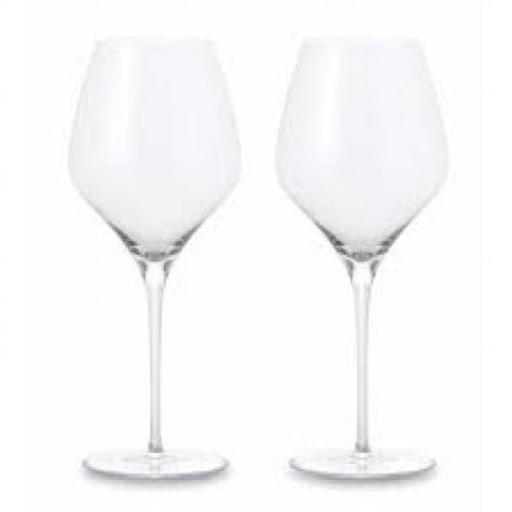glass: (273, 36, 446, 476), (66, 35, 236, 475)
